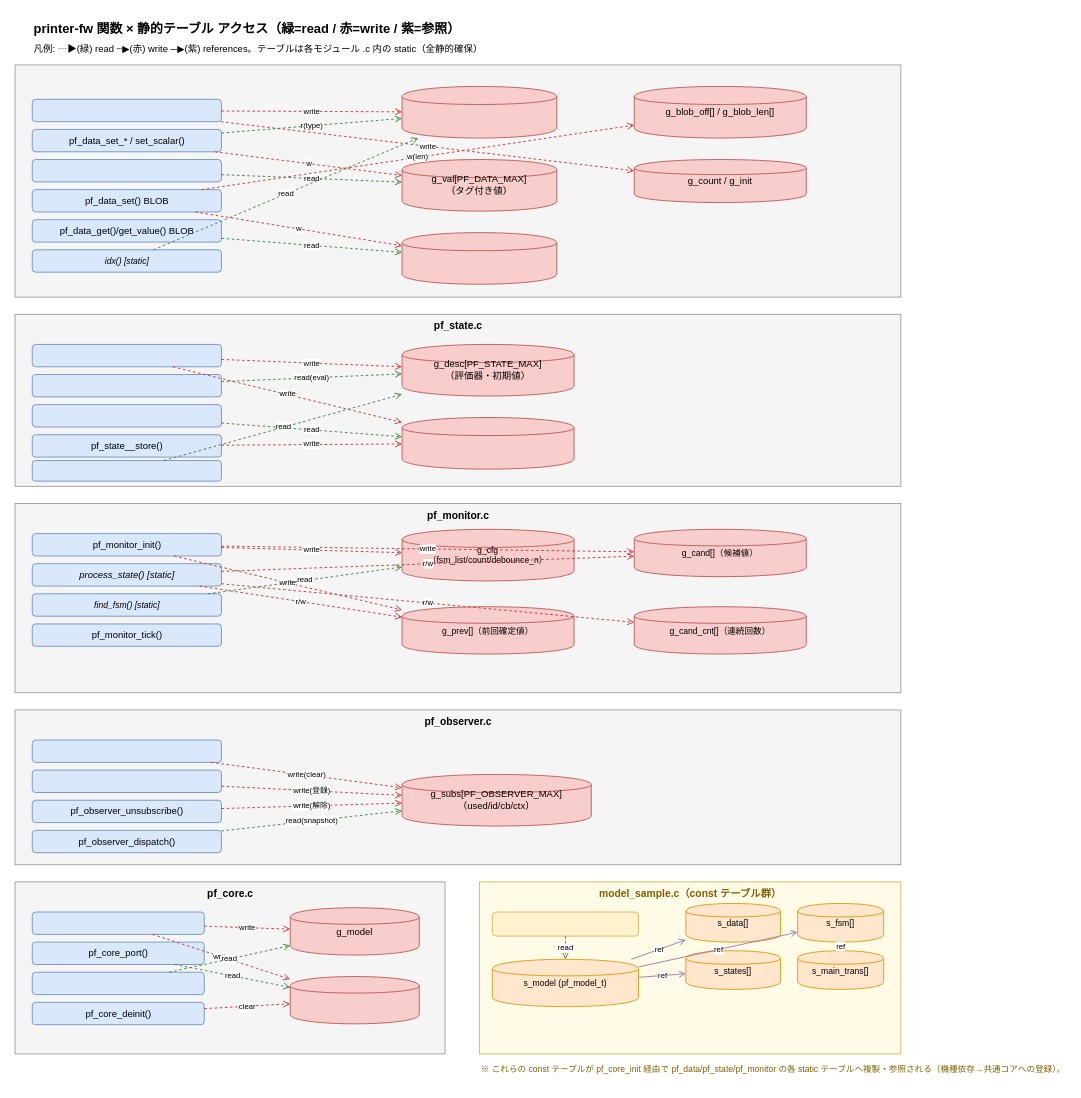
Some shapes in this 1081 by 1098 pixel diagram are drawn without their labels. The box of each missing label's shape, as (x1, y1, x2, y2) in pixels:
g_desc[PF_DATA_MAX] （記述子）: (401, 86, 557, 138)
g_last[PF_STATE_MAX] （確定値）: (401, 417, 574, 469)
g_pool[]（BLOB実体）: (401, 232, 557, 284)
g_port: (289, 976, 419, 1024)
model_sample_get(): (491, 911, 639, 936)
pf_core_init(): (31, 911, 204, 934)
pf_core_poll_and_tick(): (31, 971, 204, 995)
pf_data.c: (14, 64, 901, 297)
pf_data_get_* / get_scalar(): (31, 159, 221, 182)
pf_data_init(): (31, 98, 221, 122)
pf_observer_init(): (31, 739, 221, 762)
pf_observer_subscribe(): (31, 769, 221, 792)
pf_state__count/_id_at/_initial_at(): (31, 460, 221, 481)
pf_state_eval(): (31, 374, 221, 397)
pf_state_get(): (31, 404, 221, 427)
pf_state_init(): (31, 344, 221, 367)
